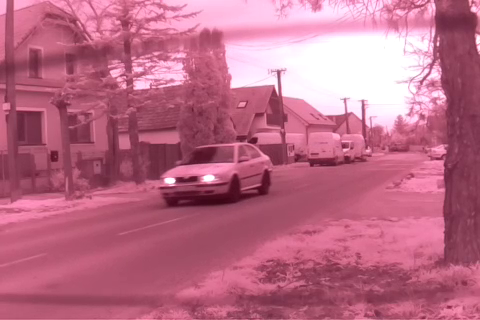car: (158, 141, 273, 205)
